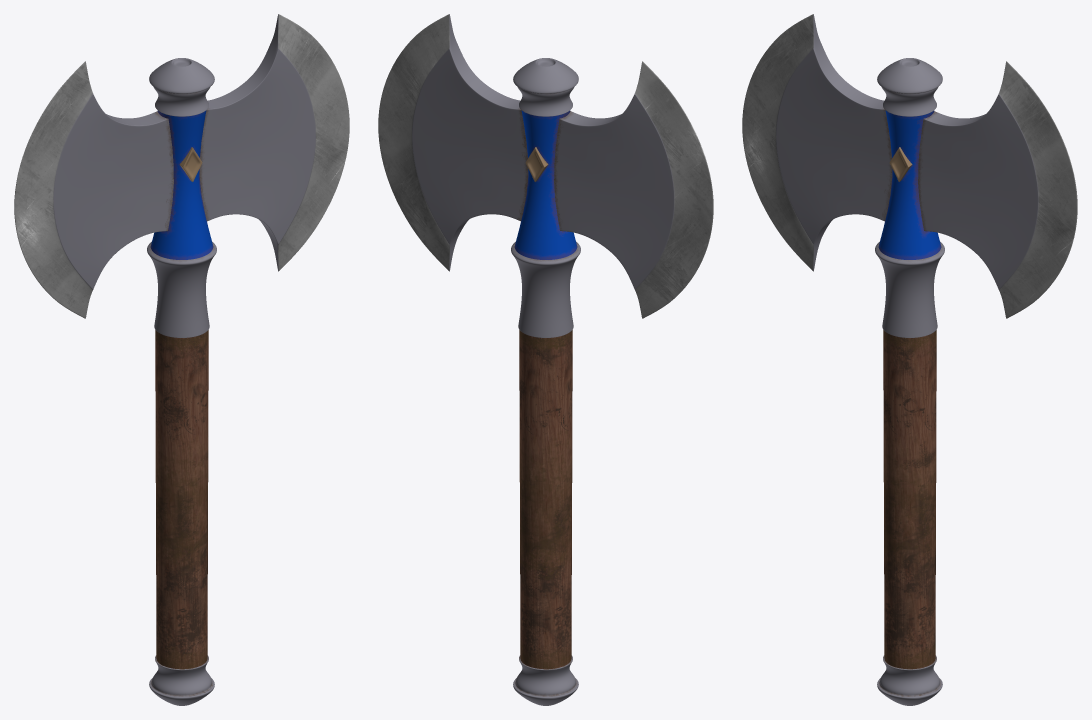
File: Axe.fbx
The picture shows the model from 3 angles, left to right: view 1: azimuth 30°, elevation 25°; view 2: azimuth 150°, elevation 25°; view 3: azimuth 330°, elevation 25°; orthographic projection.
Parts seen in each view (by area): view 1: Axe; view 2: Axe; view 3: Axe.
Boxes of the visible parts, left/top/right/bottom form: Axe: left=14, top=14, right=349, bottom=705; Axe: left=378, top=14, right=713, bottom=705; Axe: left=742, top=14, right=1077, bottom=705.
Bounding box in the file's own units: 59.64 × 113 × 10.8.
